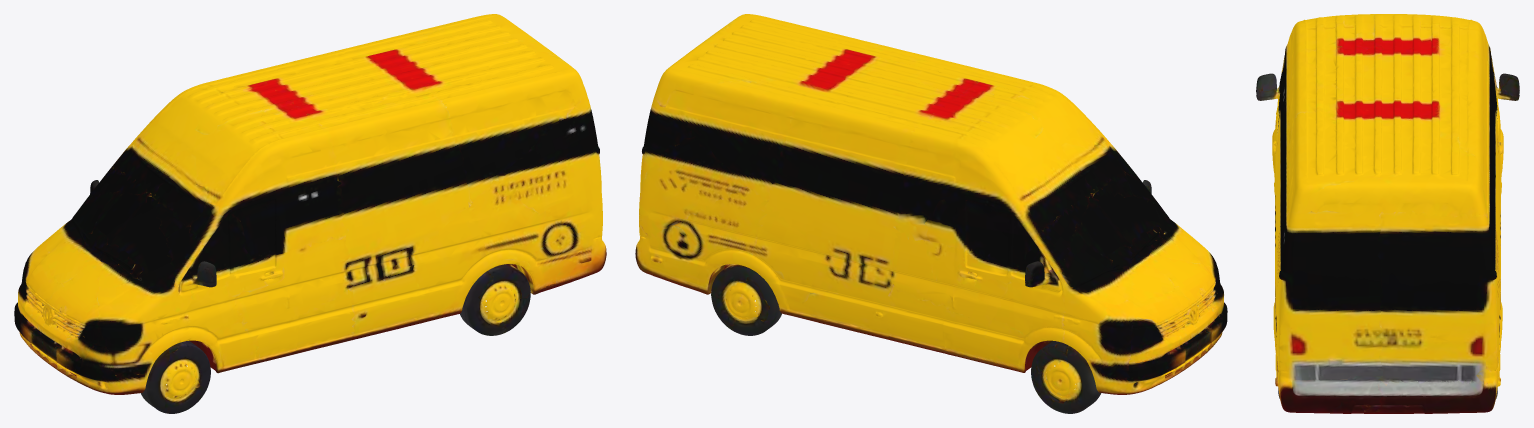
The model's file is bus.glb.
3 renders of one model, left to right at view 1: azimuth 30°, elevation 25°; view 2: azimuth 150°, elevation 25°; view 3: azimuth 270°, elevation 25°, orthographic. The views are drawn at different scales.
Size of the model in its own units: 1.9 by 0.847 by 0.7634.
1 material, 1 textured.
